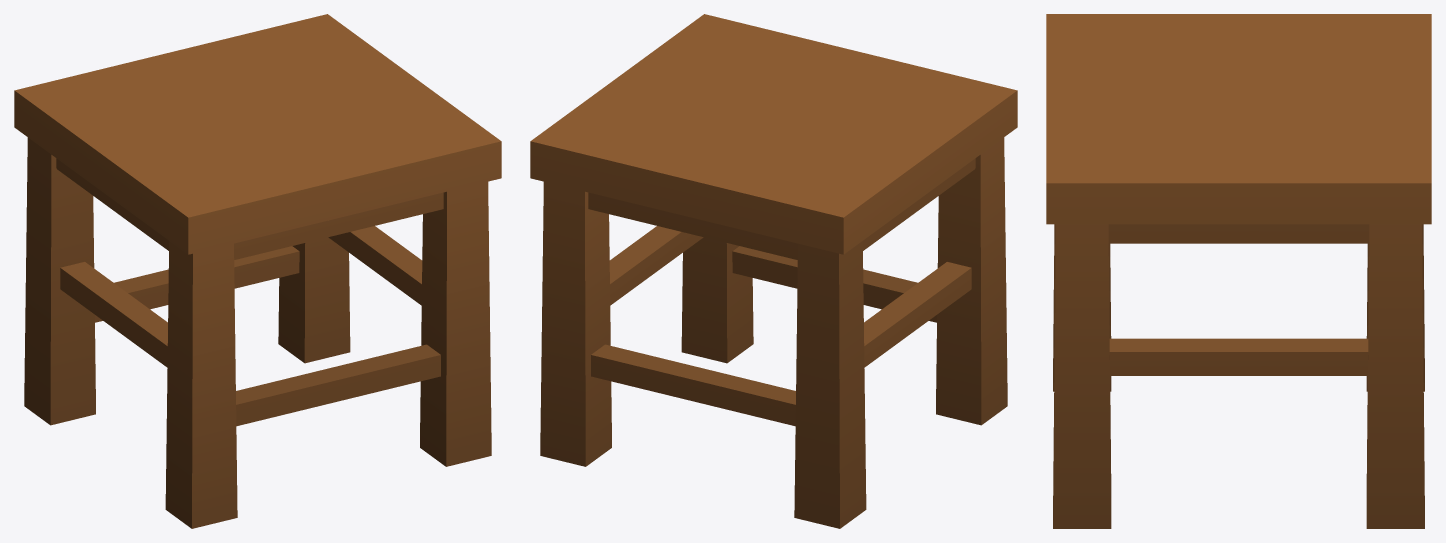
The model's file is Prop_Wooden_Stool_01.obj.
3 renders of one model, left to right at view 1: azimuth 30°, elevation 25°; view 2: azimuth 150°, elevation 25°; view 3: azimuth 270°, elevation 25°, orthographic. The views are drawn at different scales.
Visible parts, largest first — view 1: Prop_Wooden_Stool_01; view 2: Prop_Wooden_Stool_01; view 3: Prop_Wooden_Stool_01.
Part boxes in pixels (x1=…): Prop_Wooden_Stool_01: x1=14, y1=14, x2=501, y2=528; Prop_Wooden_Stool_01: x1=530, y1=14, x2=1017, y2=528; Prop_Wooden_Stool_01: x1=1046, y1=14, x2=1431, y2=528.
Size of the model in its own units: 0.26 by 0.25 by 0.25.
Materials: 1 (1 with a texture image).
